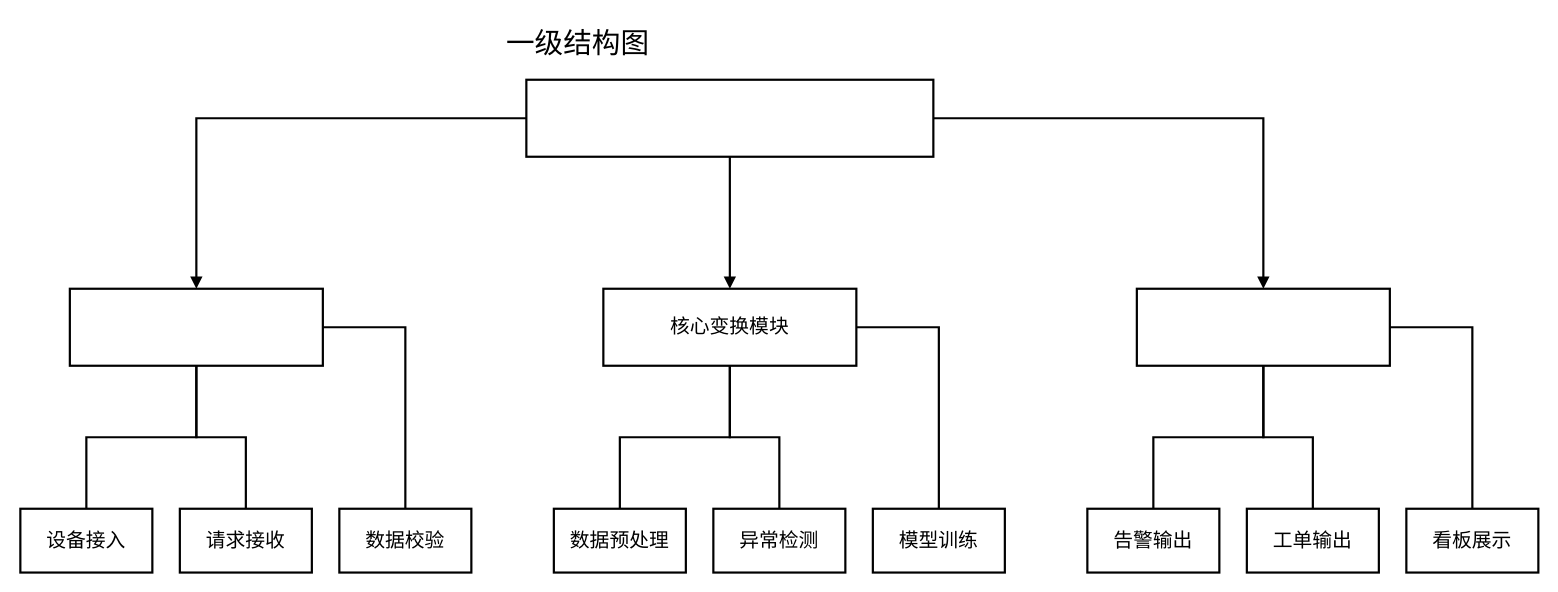
This 1558x592 diagram has some shape labels left out. Each missing label, with the box of its shape:
智能燃气表异常检测系统: (525, 78, 934, 157)
输入处理模块: (68, 287, 323, 366)
输出处理模块: (1135, 287, 1390, 366)
